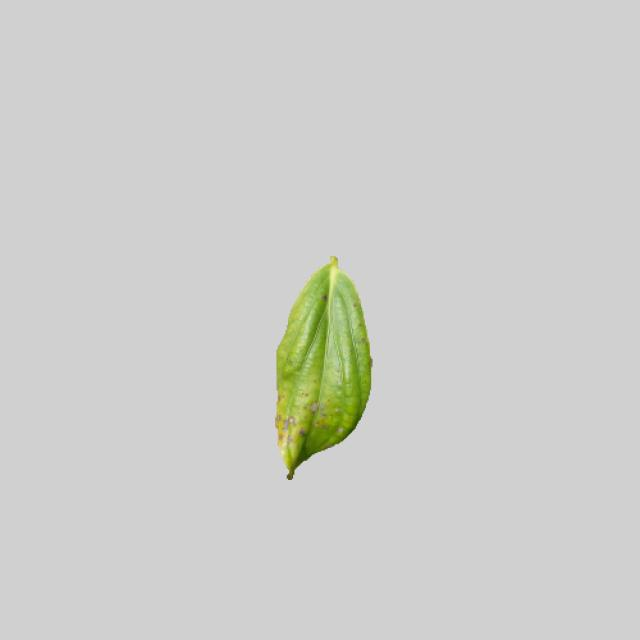yellow-mottle-virus: (266, 250, 371, 478)
